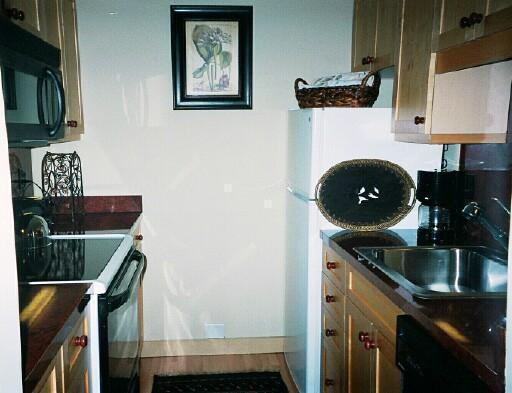Electrodomestico: (77, 239, 144, 388), (394, 314, 489, 390)
Lavaplatos: (356, 197, 506, 307)
